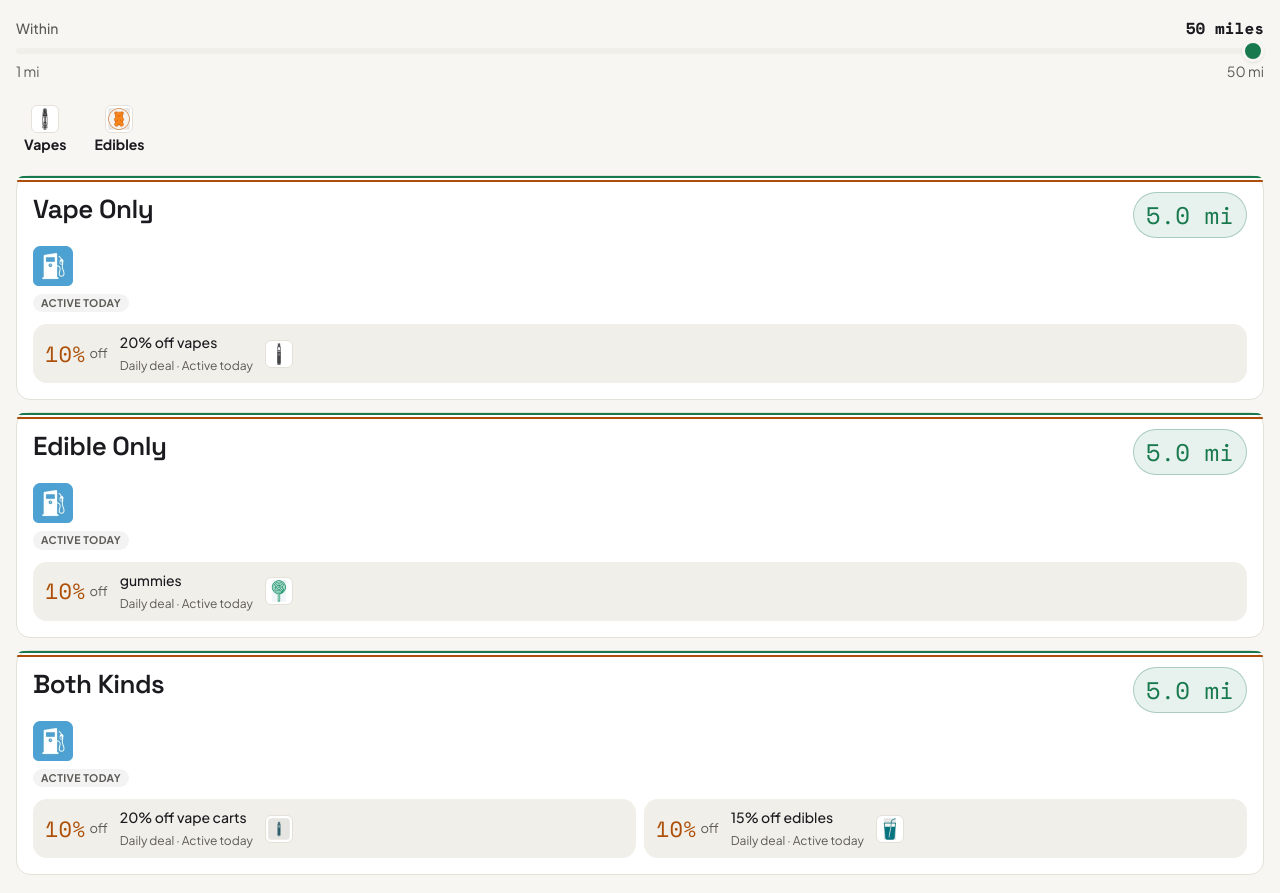
Test: DealFeed › category icon filter bar › filters to the clicked category, dropping non-carrying stores, with no network request
This screenshot has width=1280, height=893.
Click the button "Vapes" at (45, 128), box [16,101,74,155]
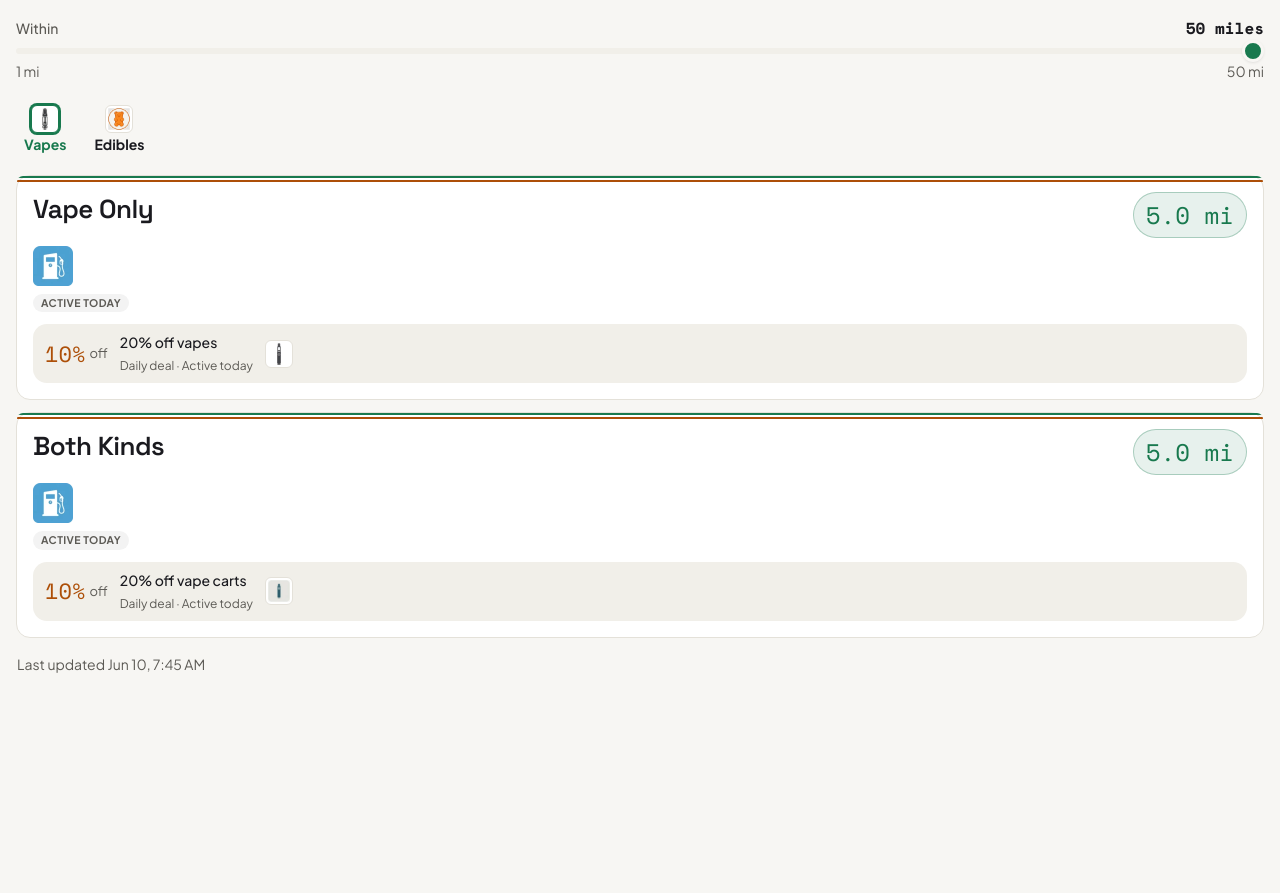
Expected: the link "Vape Only" is shown, [33,192,153,226]
Result: the number of list items is 2 at [16,175,1264,400]; [16,412,1264,638]
Result: the link "Edible Only" is gone
